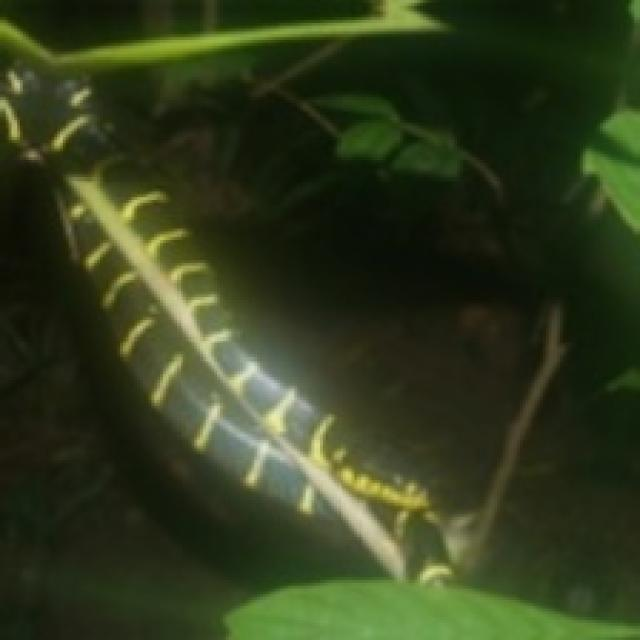mangrove cat snake: (0, 63, 429, 577)
